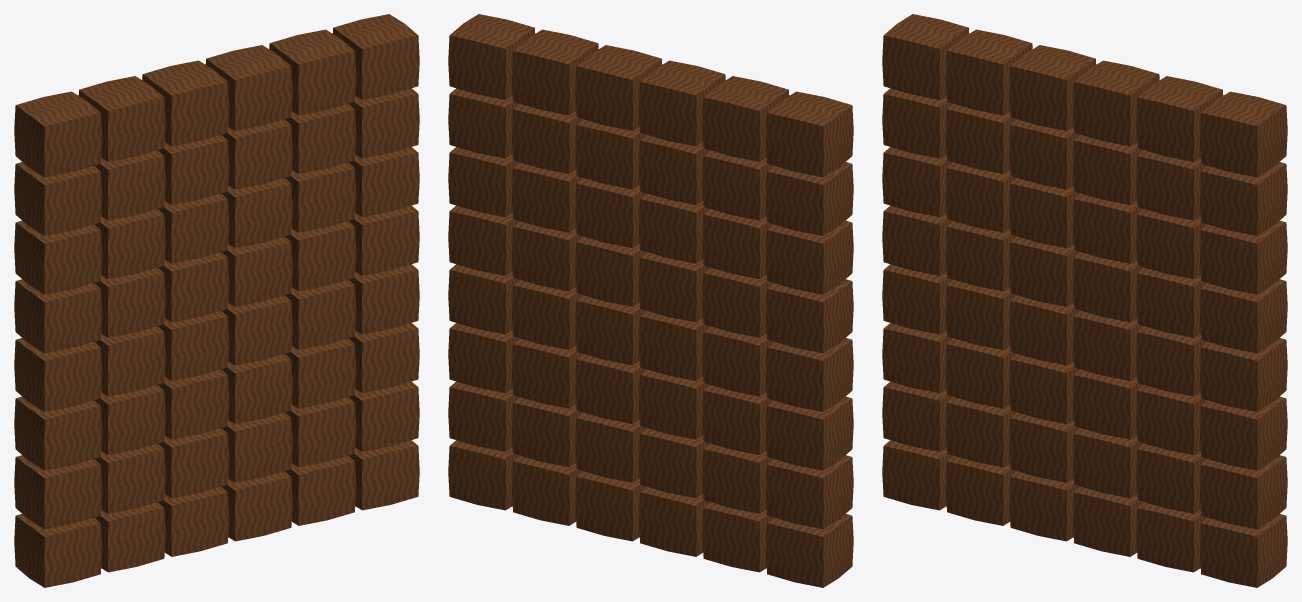
3 views of the same model, side by side, from view 1: azimuth 30°, elevation 25°; view 2: azimuth 150°, elevation 25°; view 3: azimuth 330°, elevation 25° (orthographic).
Visible parts, largest first — view 1: wood.42, wood.46, wood.43, wood.44, wood.45, wood.47, wood.12, wood.6, wood.30, wood.18, wood.36, wood.0 (+36 smaller); view 2: wood.42, wood.46, wood.43, wood.44, wood.45, wood.47, wood.12, wood.6, wood.30, wood.18, wood.36, wood.0 (+36 smaller); view 3: wood.47, wood.43, wood.45, wood.46, wood.44, wood.42, wood.17, wood.11, wood.35, wood.23, wood.41, wood.5 (+36 smaller).
Boxes of the visible parts, left/top/right/bottom form: wood.42: left=14, top=91, right=102, bottom=177; wood.46: left=269, top=29, right=356, bottom=115; wood.43: left=78, top=76, right=165, bottom=161; wood.44: left=142, top=60, right=229, bottom=146; wood.45: left=205, top=45, right=292, bottom=130; wood.47: left=332, top=14, right=419, bottom=99; wood.12: left=14, top=396, right=102, bottom=470; wood.6: left=14, top=455, right=102, bottom=529; wood.30: left=14, top=220, right=102, bottom=294; wood.18: left=14, top=338, right=102, bottom=411; wood.36: left=14, top=162, right=102, bottom=235; wood.0: left=14, top=514, right=102, bottom=587; wood.42: left=765, top=91, right=853, bottom=177; wood.46: left=511, top=29, right=598, bottom=115; wood.43: left=702, top=76, right=789, bottom=161; wood.44: left=638, top=60, right=725, bottom=146; wood.45: left=575, top=45, right=662, bottom=130; wood.47: left=448, top=14, right=535, bottom=99; wood.12: left=765, top=396, right=853, bottom=470; wood.6: left=765, top=455, right=853, bottom=529; wood.30: left=765, top=220, right=853, bottom=294; wood.18: left=765, top=338, right=853, bottom=411; wood.36: left=765, top=162, right=853, bottom=235; wood.0: left=765, top=514, right=853, bottom=587; wood.47: left=1199, top=91, right=1287, bottom=177; wood.43: left=945, top=29, right=1032, bottom=115; wood.45: left=1072, top=60, right=1159, bottom=146; wood.46: left=1136, top=76, right=1223, bottom=161; wood.44: left=1009, top=45, right=1096, bottom=130; wood.42: left=882, top=14, right=969, bottom=99; wood.17: left=1199, top=396, right=1287, bottom=470; wood.11: left=1199, top=455, right=1287, bottom=529; wood.35: left=1199, top=220, right=1287, bottom=294; wood.23: left=1199, top=338, right=1287, bottom=411; wood.41: left=1199, top=162, right=1287, bottom=235; wood.5: left=1199, top=514, right=1287, bottom=587.
Bounding box in the file's own units: 2.03 × 2.39 × 0.3.
1 material, 1 textured.
